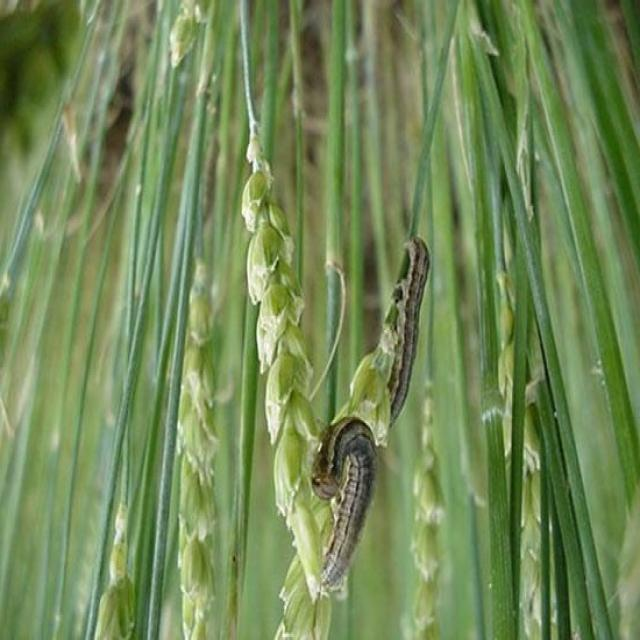army worm: (294, 410, 385, 596), (367, 230, 436, 441)
